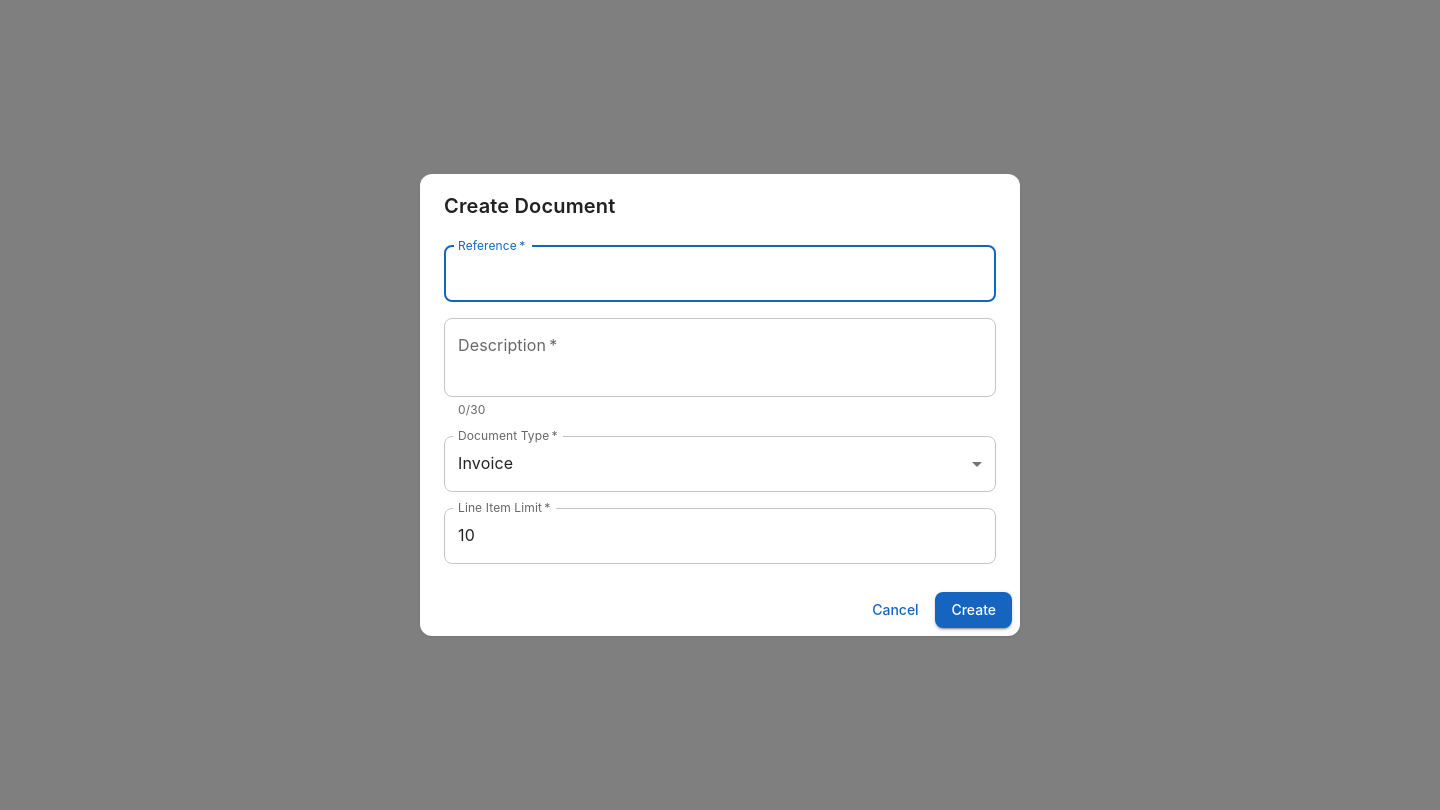
it: CreateDocumentDialog › shows validation error when reference is empty
What coordinates should you click on to do the following:
click the button "Create"
I would click on:
 (974, 610)
Its box is [935,592,1012,628].
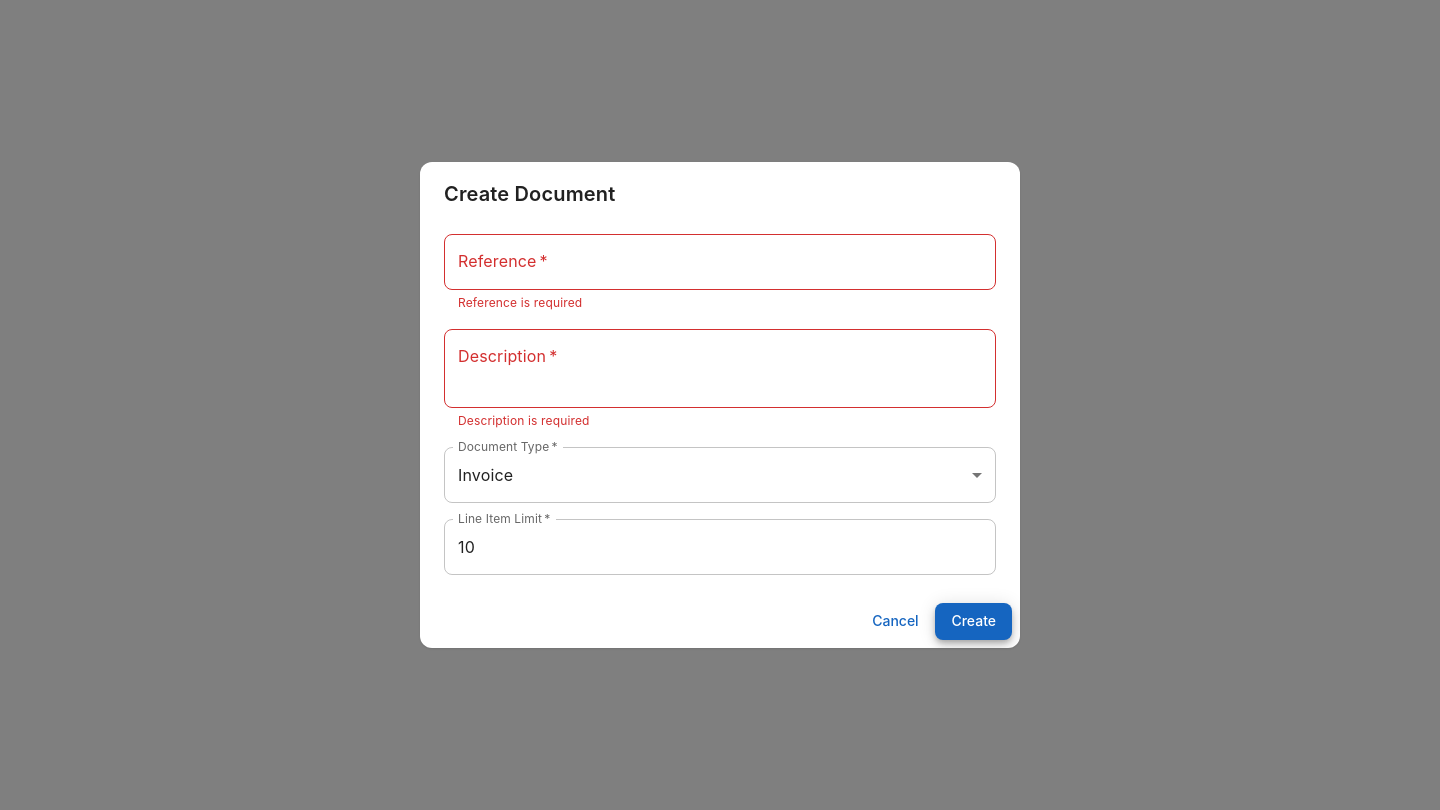
Check: the text "Reference is required" is shown, box [458,295,582,310]
